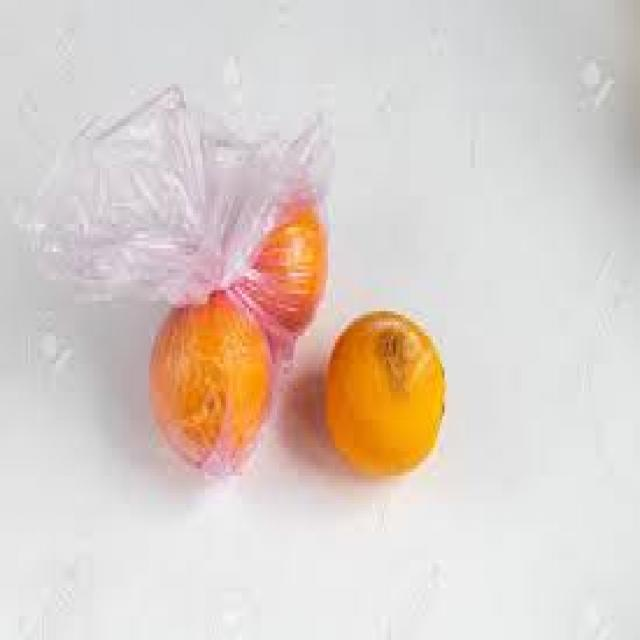organic waste: (144, 286, 270, 462), (324, 308, 442, 479), (221, 189, 326, 336)
